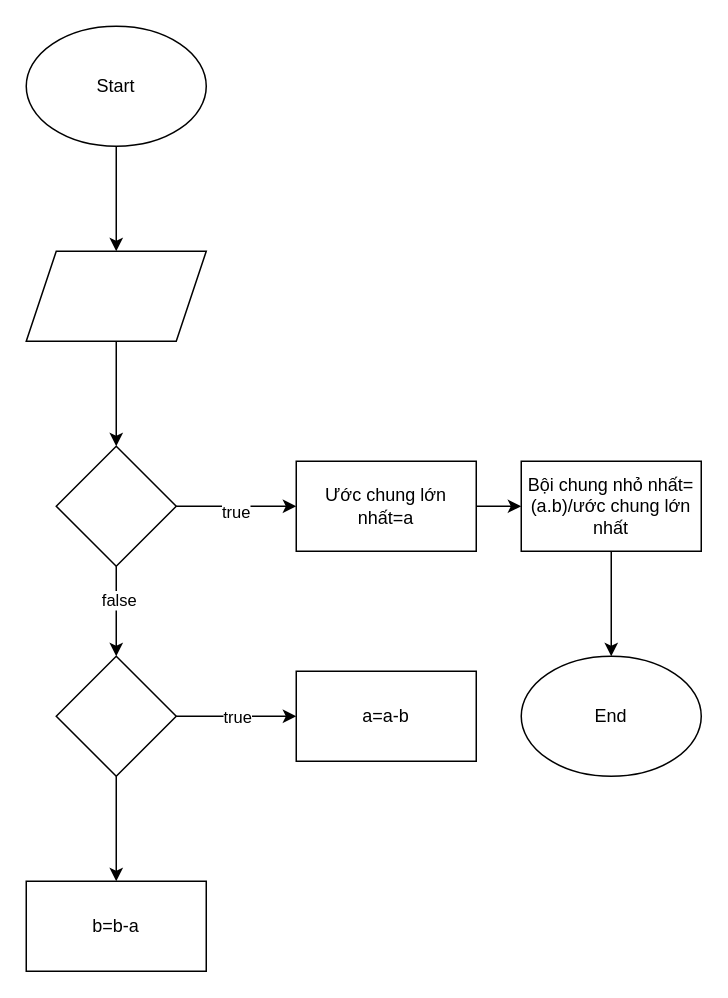
The diagram is 728 pixels wide and 998 high, and some of its shapes have lost their labels. Each missing label, with the centre of its shape:
a=b: [115,505]
a>b: [115,715]
nhập a,b: [115,295]
